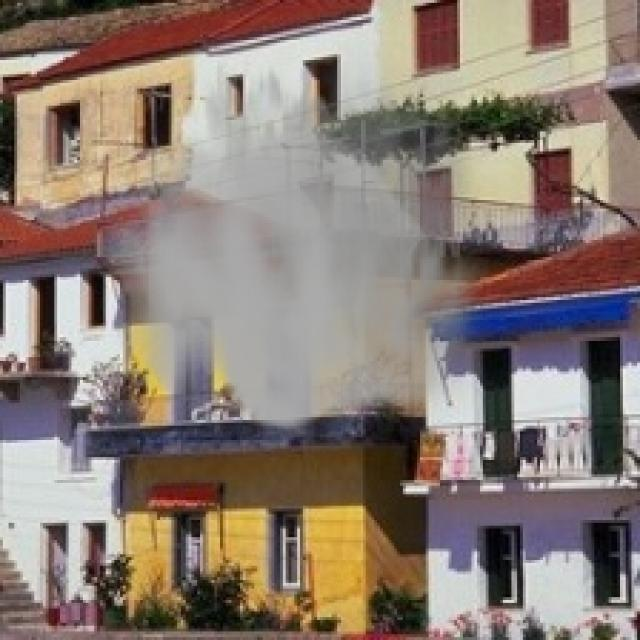Smoke: (106, 20, 500, 437)
